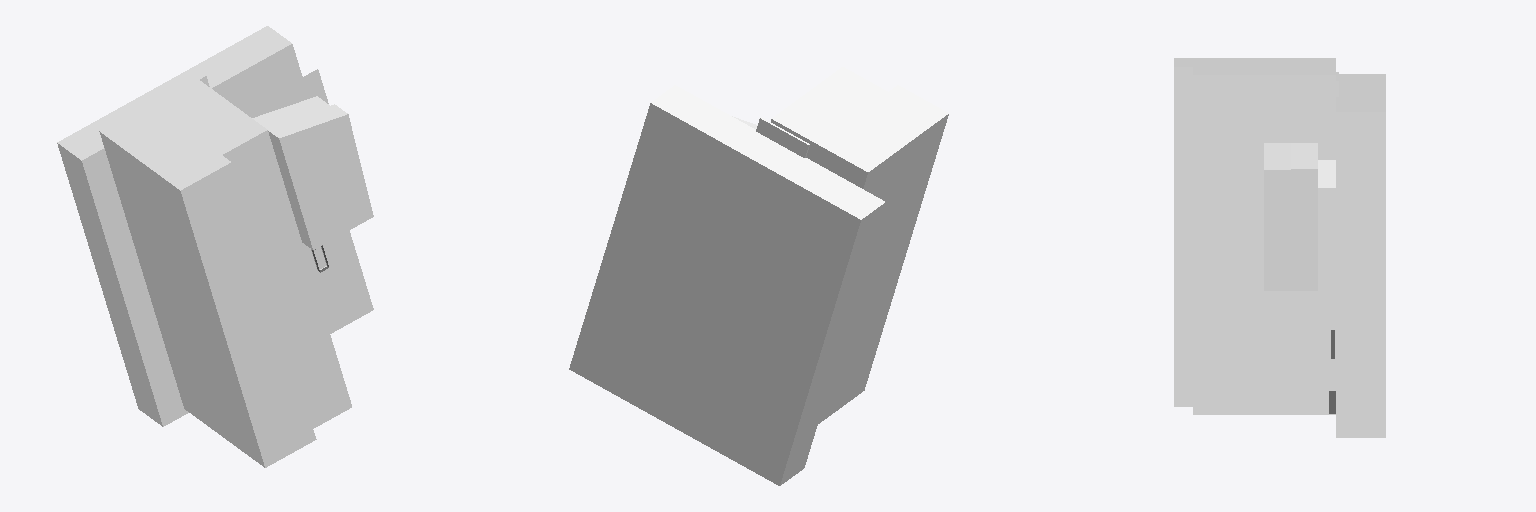
File: Opt3-WithMat.obj
The picture shows the model from 3 angles: view 1: azimuth 30°, elevation 25°; view 2: azimuth 150°, elevation 25°; view 3: azimuth 270°, elevation 25°; orthographic projection.
Bounding box in the file's own units: 246 × 283 × 154.